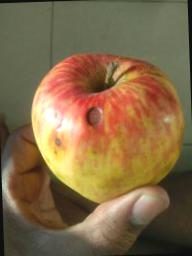Apple Overripe: (23, 44, 192, 206)
